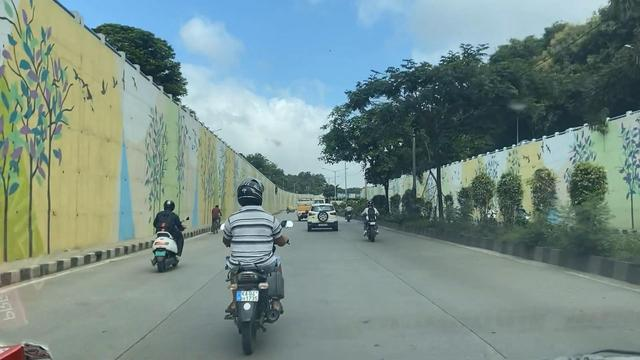LMV: (225, 177, 285, 328), (152, 203, 184, 273), (308, 203, 339, 233), (361, 203, 378, 241)
